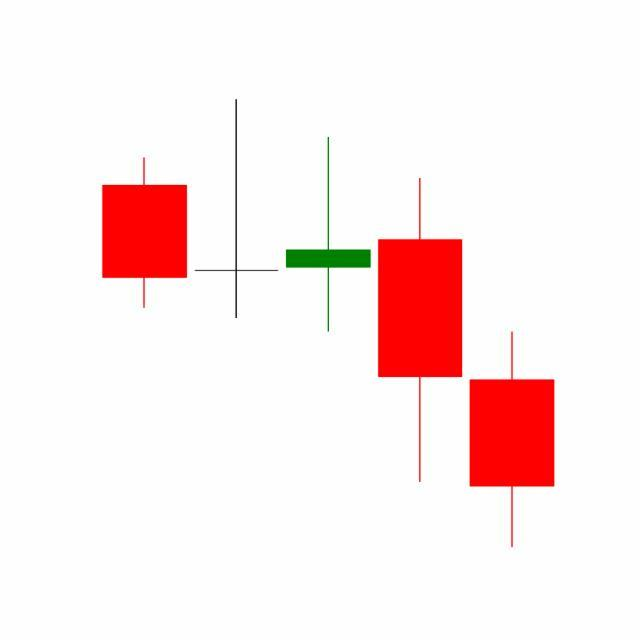Three Outside Up-Down: (280, 133, 555, 549)
